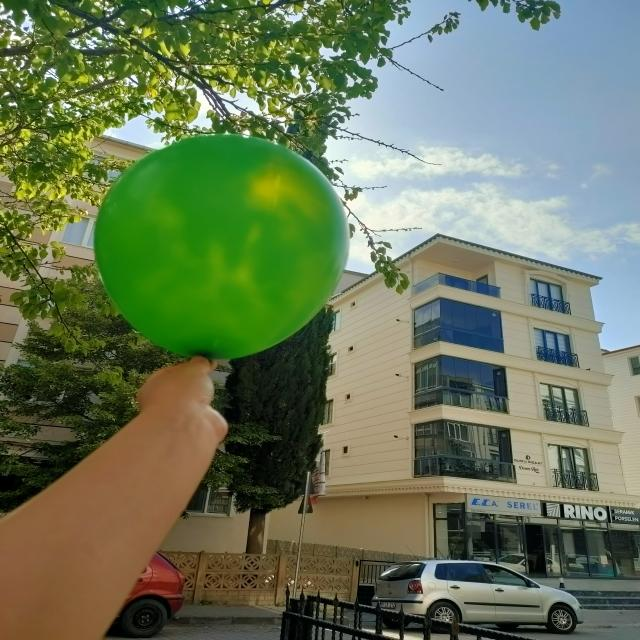green: (93, 137, 348, 362)
